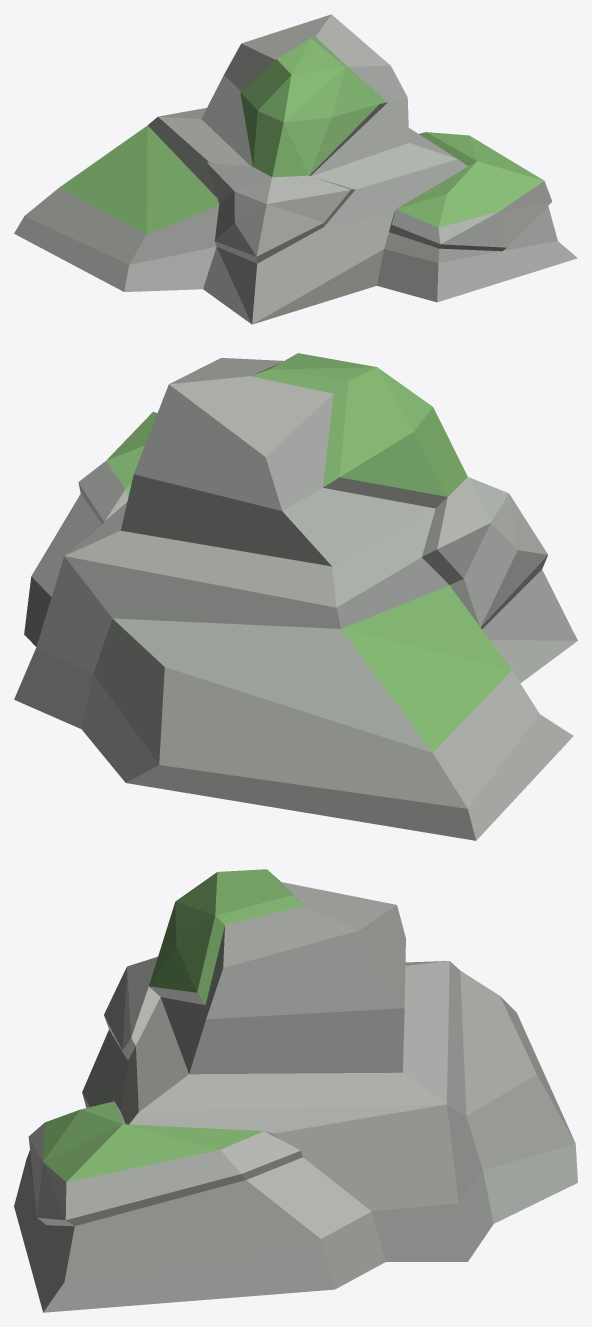
The model's file is lpset_rock_mossy_b.glb.
The picture shows the model from 3 angles, top to bottom: view 1: azimuth 30°, elevation 25°; view 2: azimuth 150°, elevation 25°; view 3: azimuth 270°, elevation 25°; orthographic projection. The views are drawn at different scales.
Parts seen in each view (by area): view 1: lpset_rock_mossy_b; view 2: lpset_rock_mossy_b; view 3: lpset_rock_mossy_b.
Boxes of the visible parts, x1,y1,x2,y2 form: lpset_rock_mossy_b: (14,14,577,324); lpset_rock_mossy_b: (14,353,577,840); lpset_rock_mossy_b: (14,869,577,1312).
Bounding box in the file's own units: 0.74 × 0.3571 × 0.6285.
